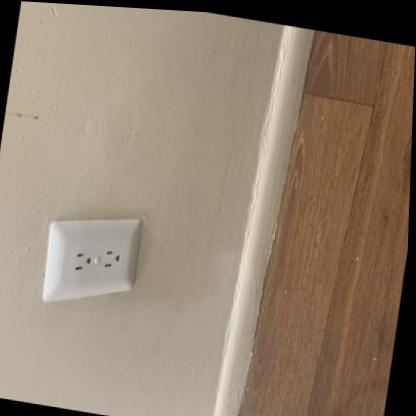OUTLET: (41, 203, 145, 315)
